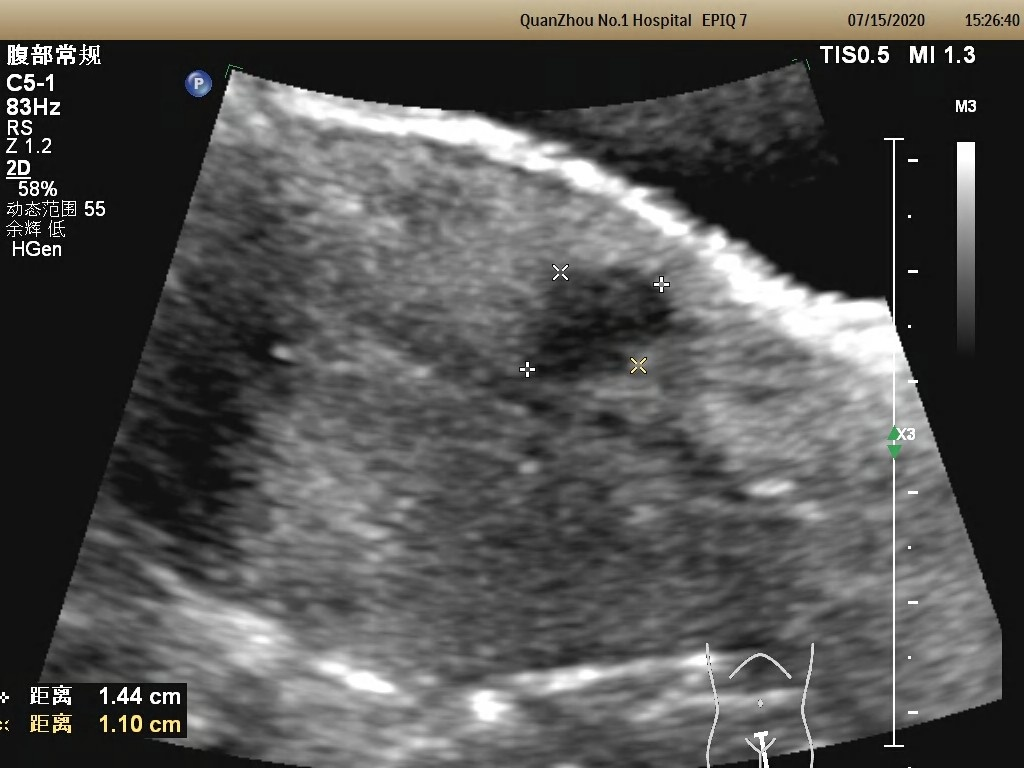肌瘤: (532, 268, 667, 377)
